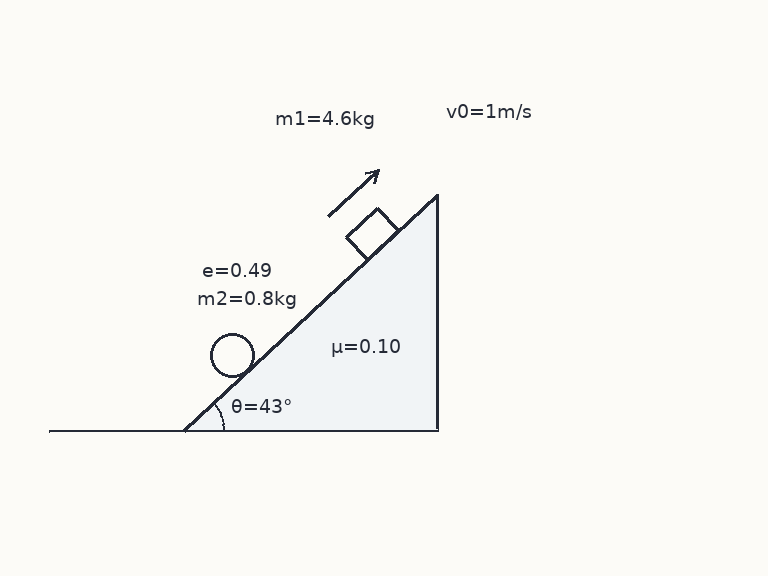ball: (208, 331, 256, 379)
block: (345, 206, 400, 261)
ramp: (182, 192, 439, 432)
